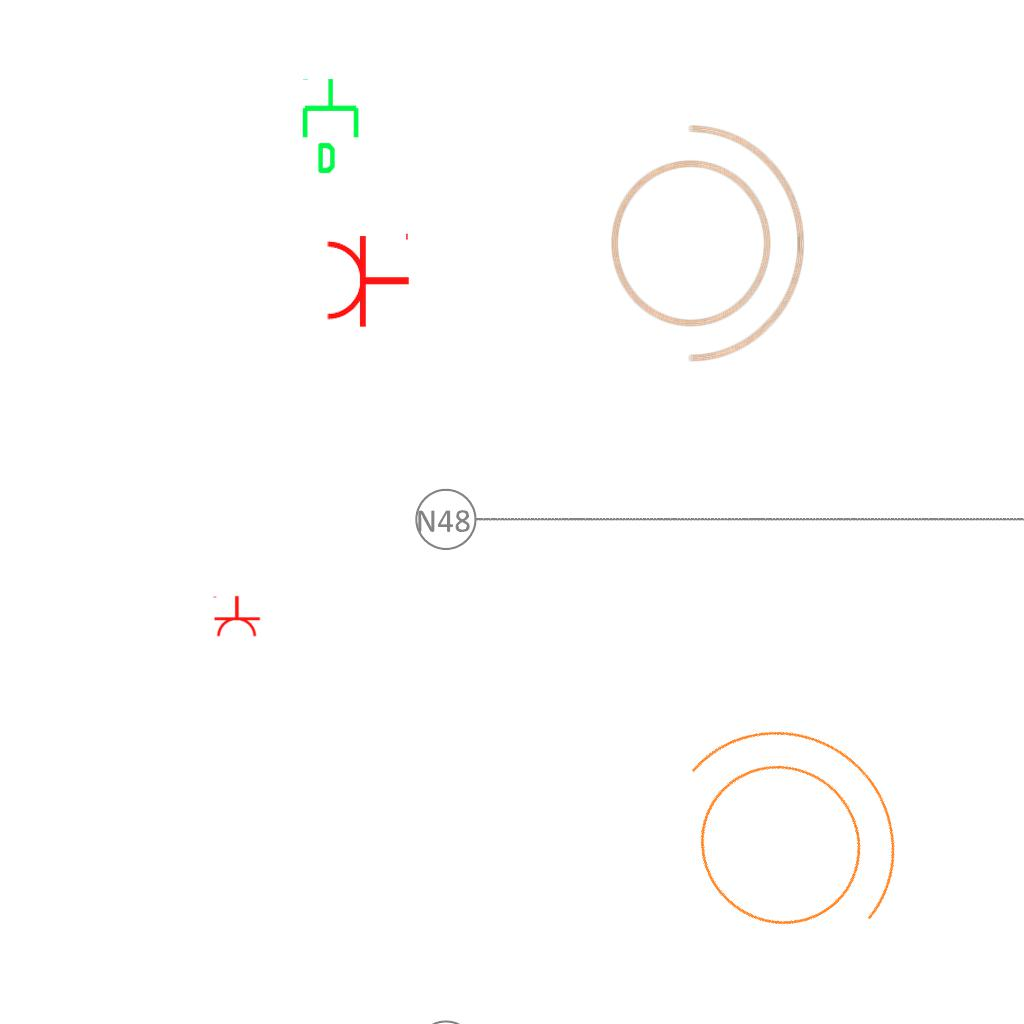Datenanschluss_einfach: (298, 76, 367, 176)
Scheinwerfer_fuer_Alarmbeleuchtung: (608, 662, 956, 1005), (588, 105, 813, 369)
Schukosteckdose_einfach: (324, 229, 411, 329), (211, 595, 261, 638)
